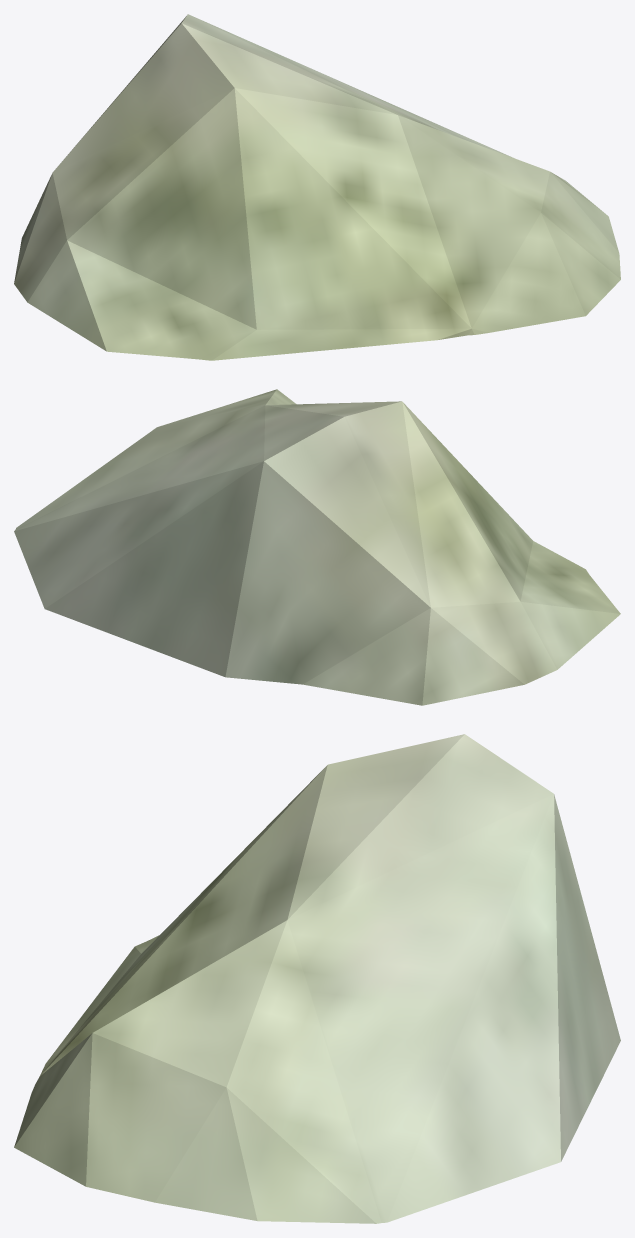
The picture shows the model from 3 angles, top to bottom: view 1: azimuth 30°, elevation 25°; view 2: azimuth 150°, elevation 25°; view 3: azimuth 270°, elevation 25°; orthographic projection. The views are drawn at different scales.
Size of the model in its own units: 1.65 by 0.6492 by 1.3.
1 material, 1 textured.
